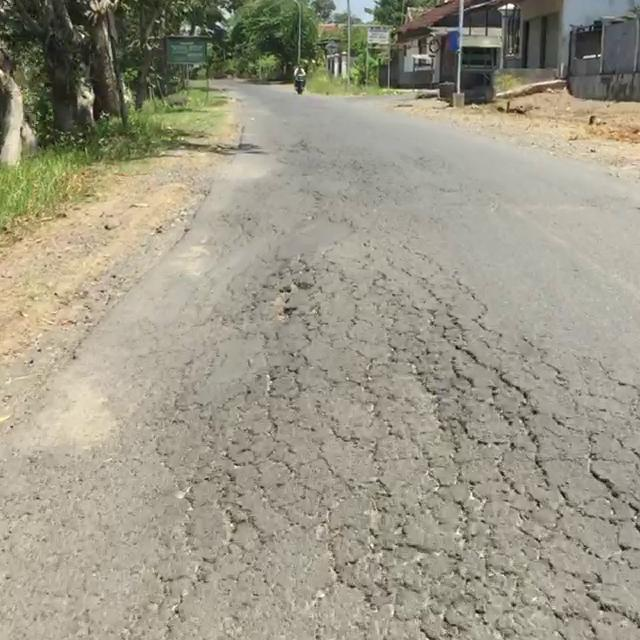retak_kulit_buaya: (257, 341, 640, 640), (346, 226, 511, 469), (142, 375, 285, 640)
